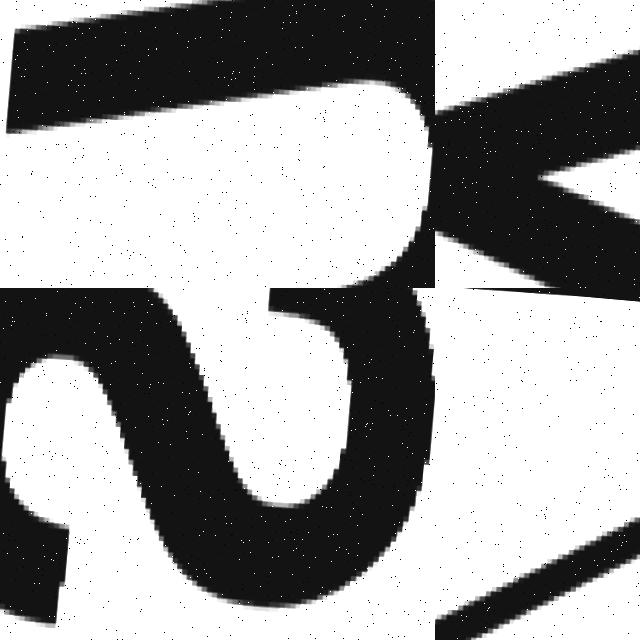7: (435, 407, 640, 640)
A: (435, 0, 640, 288)
S: (0, 288, 435, 640)
U: (0, 0, 435, 288)
